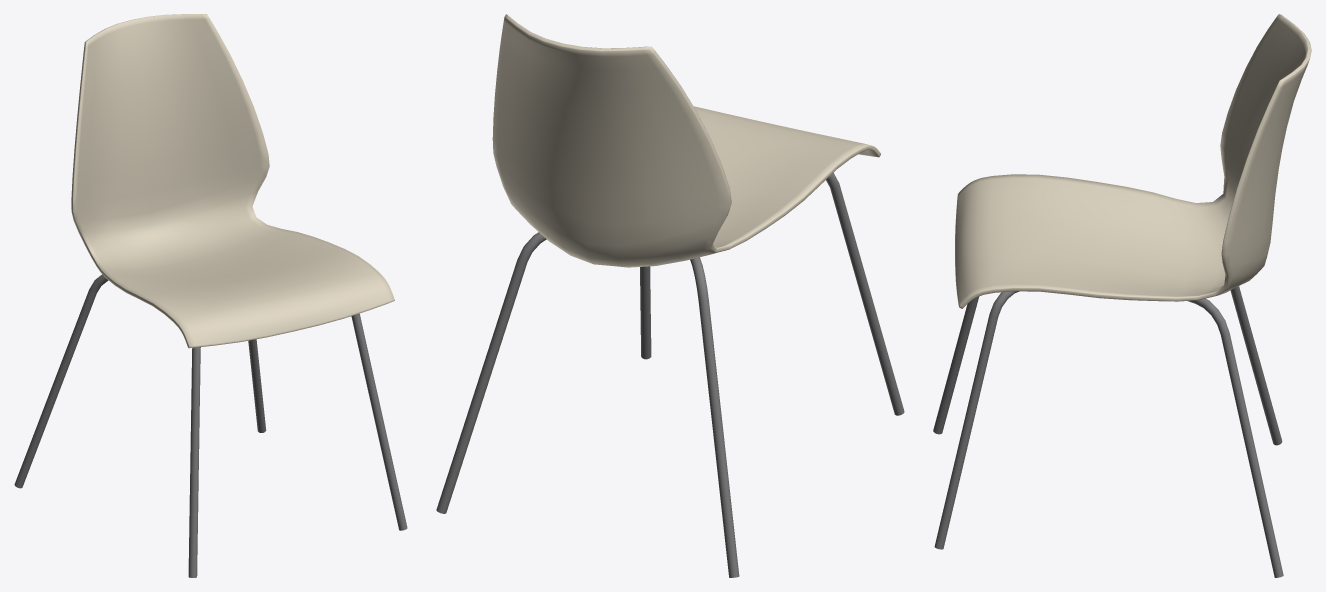
Rendered from chairRotated.obj.
3 renders of one model, left to right at view 1: azimuth 30°, elevation 25°; view 2: azimuth 150°, elevation 25°; view 3: azimuth 270°, elevation 25°, orthographic. The views are drawn at different scales.
Visible parts, largest first — view 1: 0139; view 2: 0139; view 3: 0139.
Boxes of the visible parts, left/top/right/bottom form: 0139: left=14, top=14, right=407, bottom=577; 0139: left=436, top=14, right=904, bottom=577; 0139: left=933, top=14, right=1311, bottom=577.
Size of the model in its own units: 49.85 by 81.98 by 59.75.
